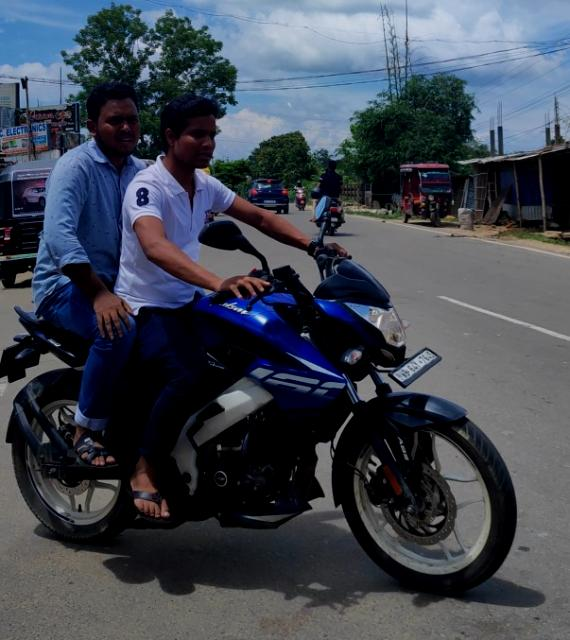licensePlate: (385, 344, 444, 385)
motorcycle: (2, 69, 518, 595)
withoutHelmet: (161, 98, 226, 168), (85, 79, 144, 155)
